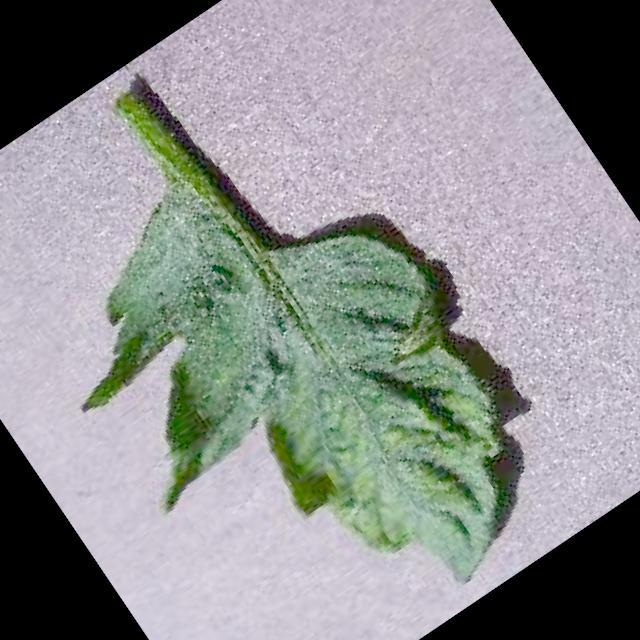Tomato mosaic virus leaf: (0, 80, 594, 640)
